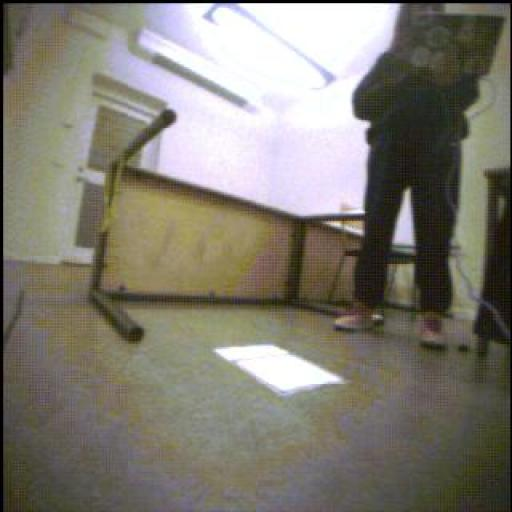Pad: (216, 345, 349, 396)
